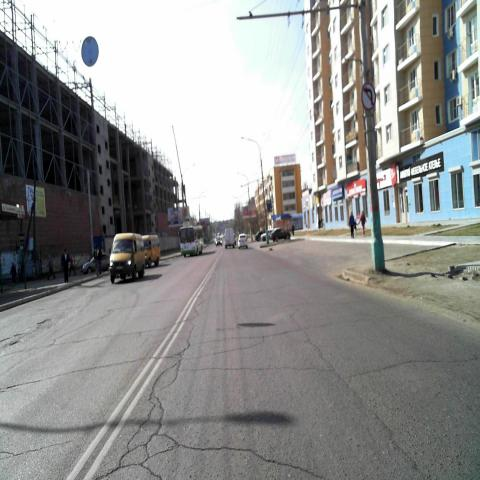3_18_2: (361, 83, 377, 111)
